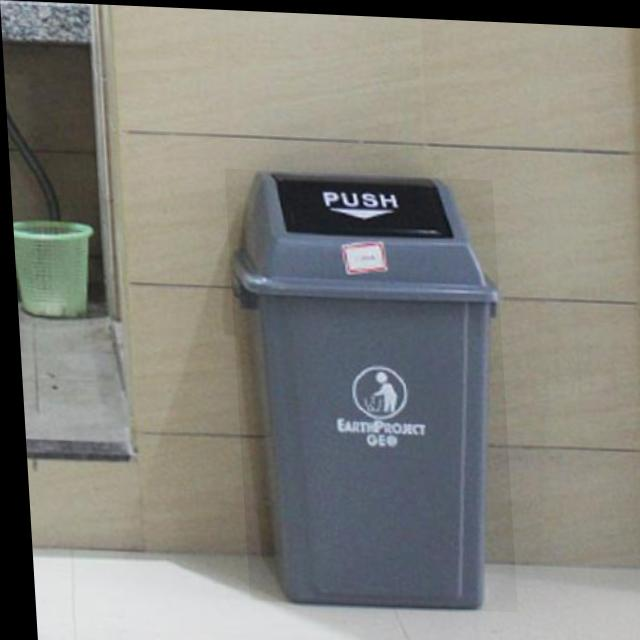garbage_bin: (223, 166, 510, 608)
